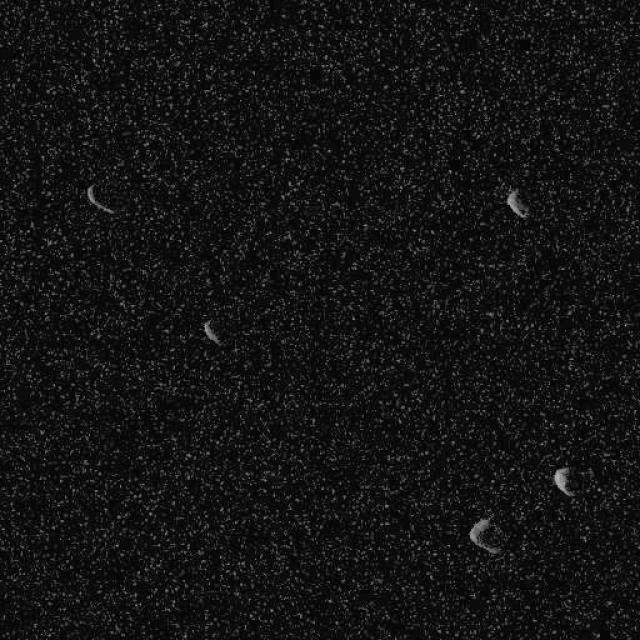D2: (468, 516, 502, 555), (84, 183, 115, 215), (552, 465, 576, 497), (505, 188, 529, 218), (201, 318, 221, 347)
